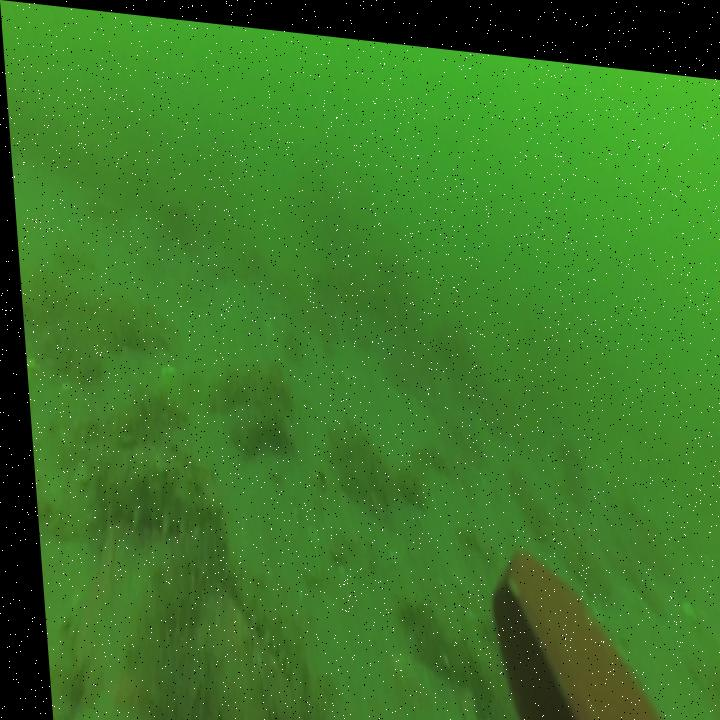holothurian: (97, 449, 215, 537), (231, 594, 289, 679)
